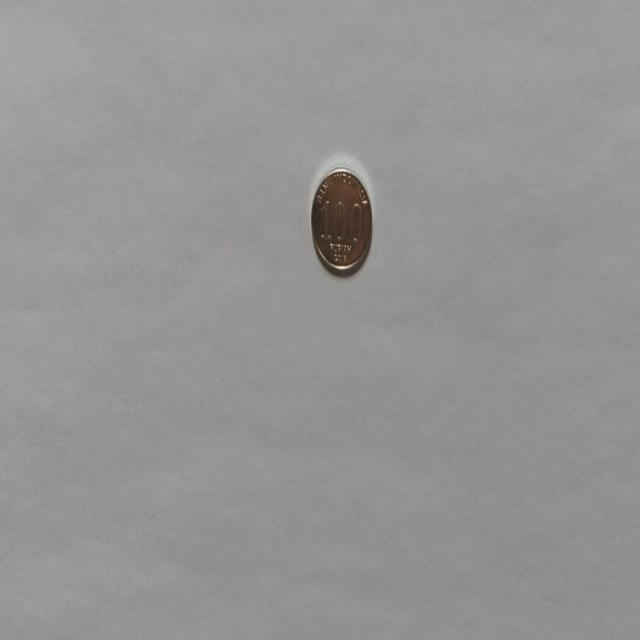seratus rupiah: (310, 166, 372, 276)
